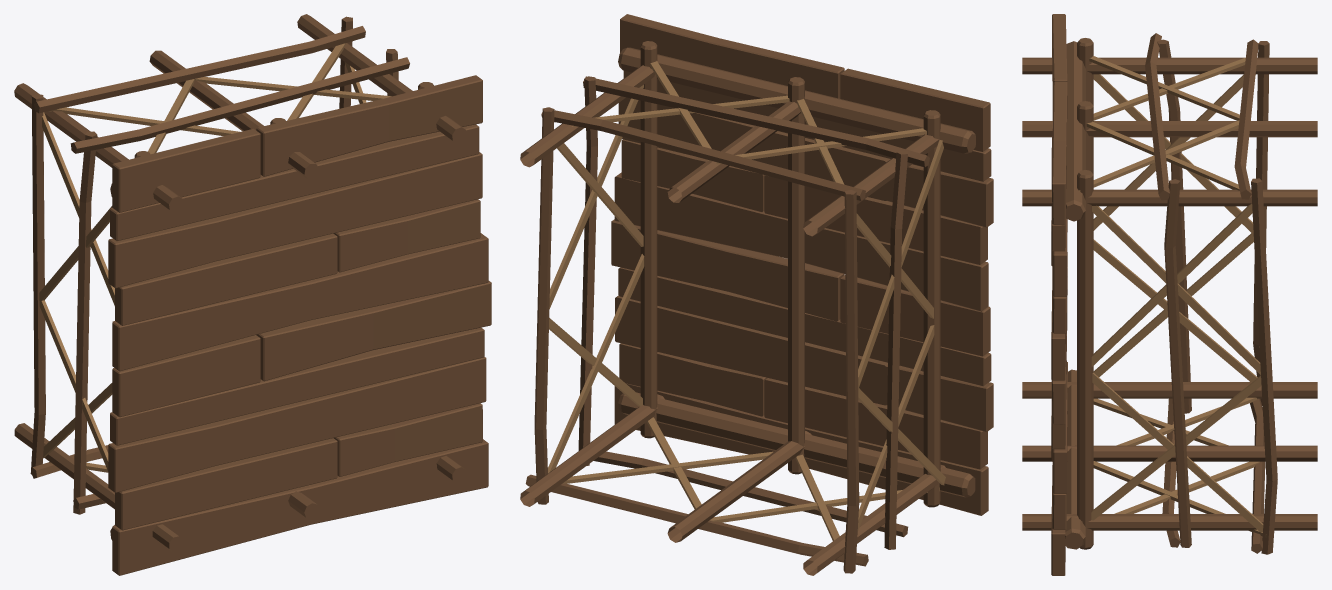
Rendered from Tower_02.fbx.
3 views of the same model, side by side, from view 1: azimuth 30°, elevation 25°; view 2: azimuth 150°, elevation 25°; view 3: azimuth 270°, elevation 25° (orthographic). The views are drawn at different scales.
Parts seen in each view (by area): view 1: tour.001; view 2: tour.001; view 3: tour.001.
Part boxes in pixels (left/top/right/bottom): tour.001: left=14, top=14, right=491, bottom=575; tour.001: left=520, top=14, right=993, bottom=575; tour.001: left=1022, top=14, right=1317, bottom=575.
Size of the model in its own units: 495 by 513 by 352.
